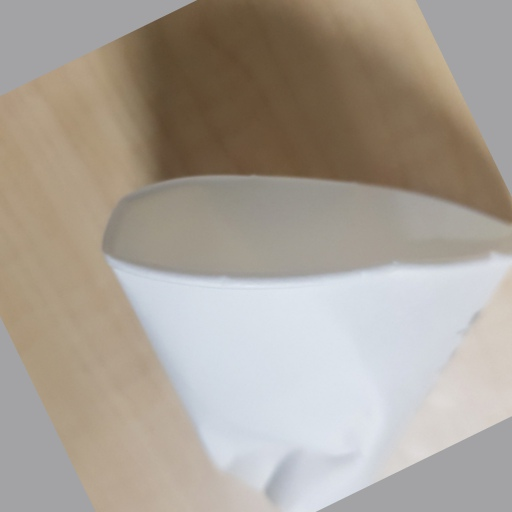Paper_1: (104, 171, 512, 509)
